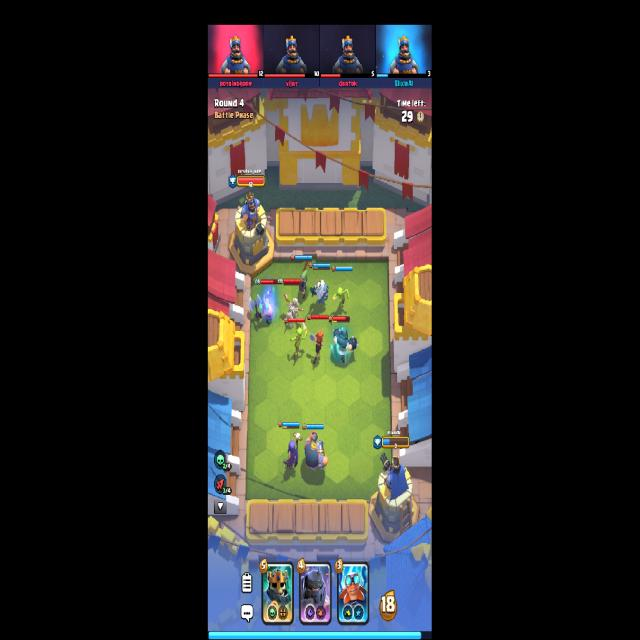bandit: (298, 261, 309, 295)
card_electro_giant: (338, 560, 368, 626)
card_mega_knight: (299, 562, 331, 624)
card_skeleton_king: (262, 562, 293, 624)
executioner: (249, 287, 275, 323)
goblin: (290, 321, 308, 362), (333, 288, 350, 308)
mega_knight: (332, 327, 358, 364)
royal_ghost: (311, 280, 329, 307)
royal_giant: (303, 430, 328, 472)
skeleton_dragon: (282, 292, 303, 324)
valkyrie: (310, 332, 324, 364)
witch: (284, 432, 303, 470)
